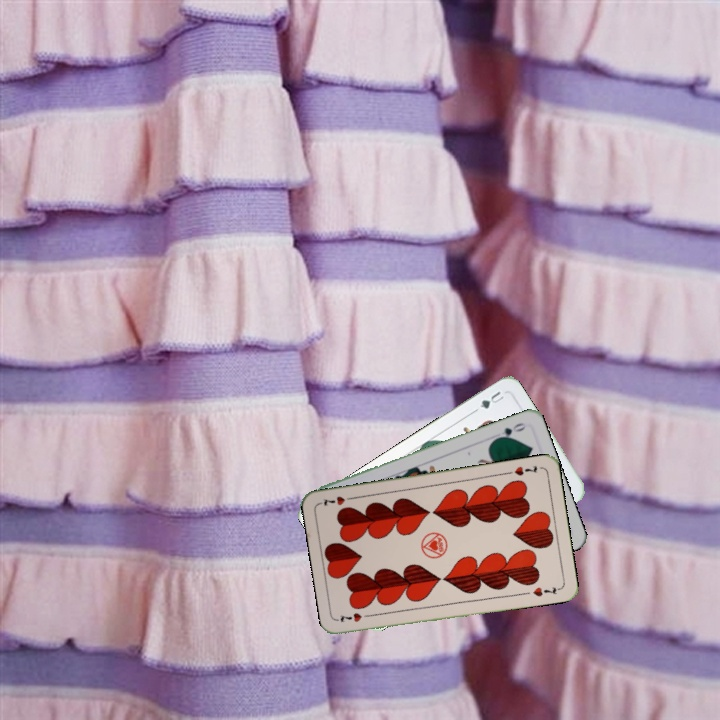GO: (491, 418, 528, 443)
GU: (476, 387, 506, 411)
H7: (335, 609, 375, 625), (503, 461, 540, 478)
